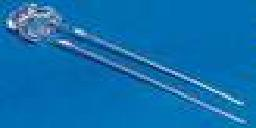LED: (5, 3, 247, 128)
